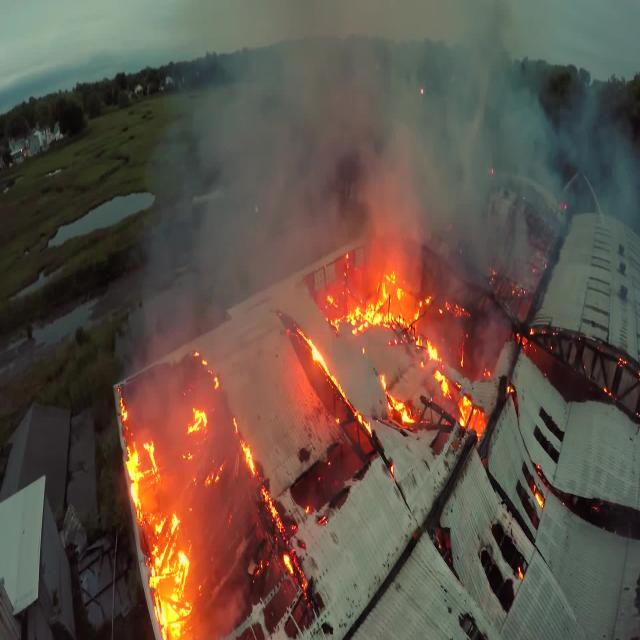Fire: (114, 348, 300, 640), (290, 244, 488, 449)
Smoke: (138, 1, 640, 358)
